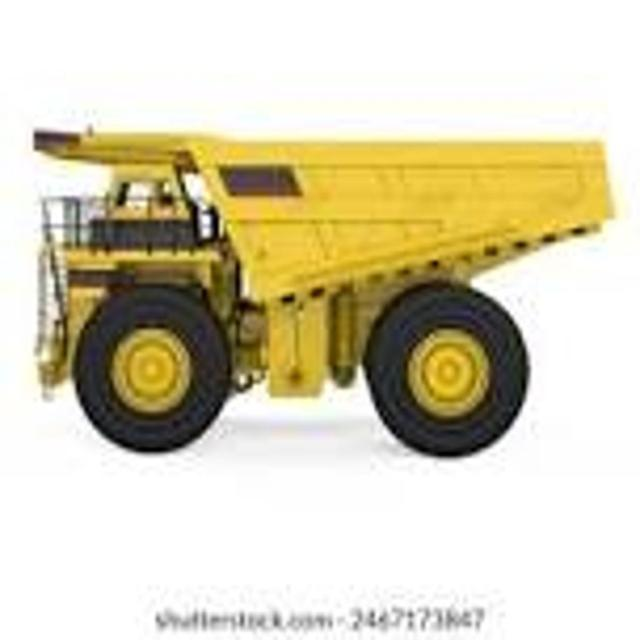dump_truck: (26, 113, 622, 467)
